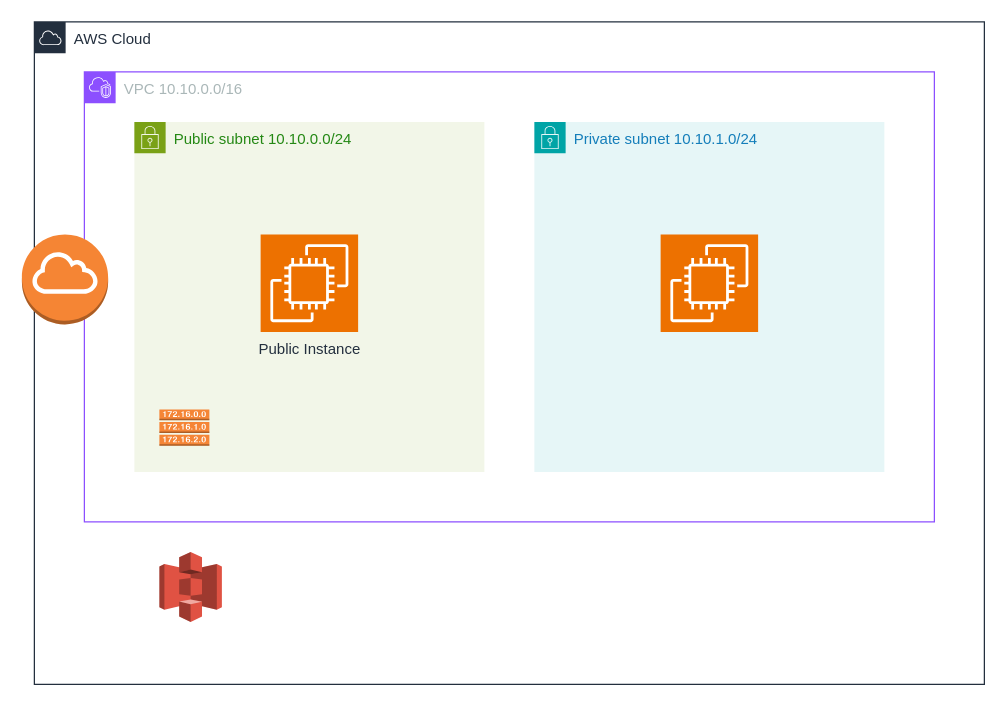
This 1006x706 diagram has some shape labels left out. Each missing label, with the centre of its shape:
Private Instance: the point at 708,282
Public CRT: the point at 183,427
S3 Bucket: the point at 190,586
